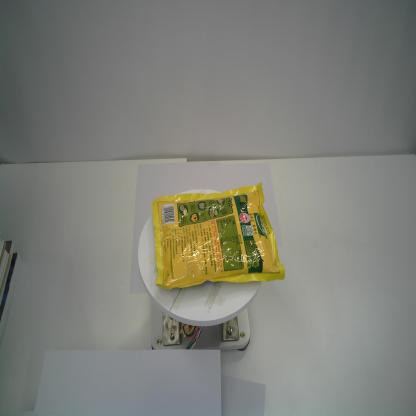Seasoner: (151, 181, 286, 291)
